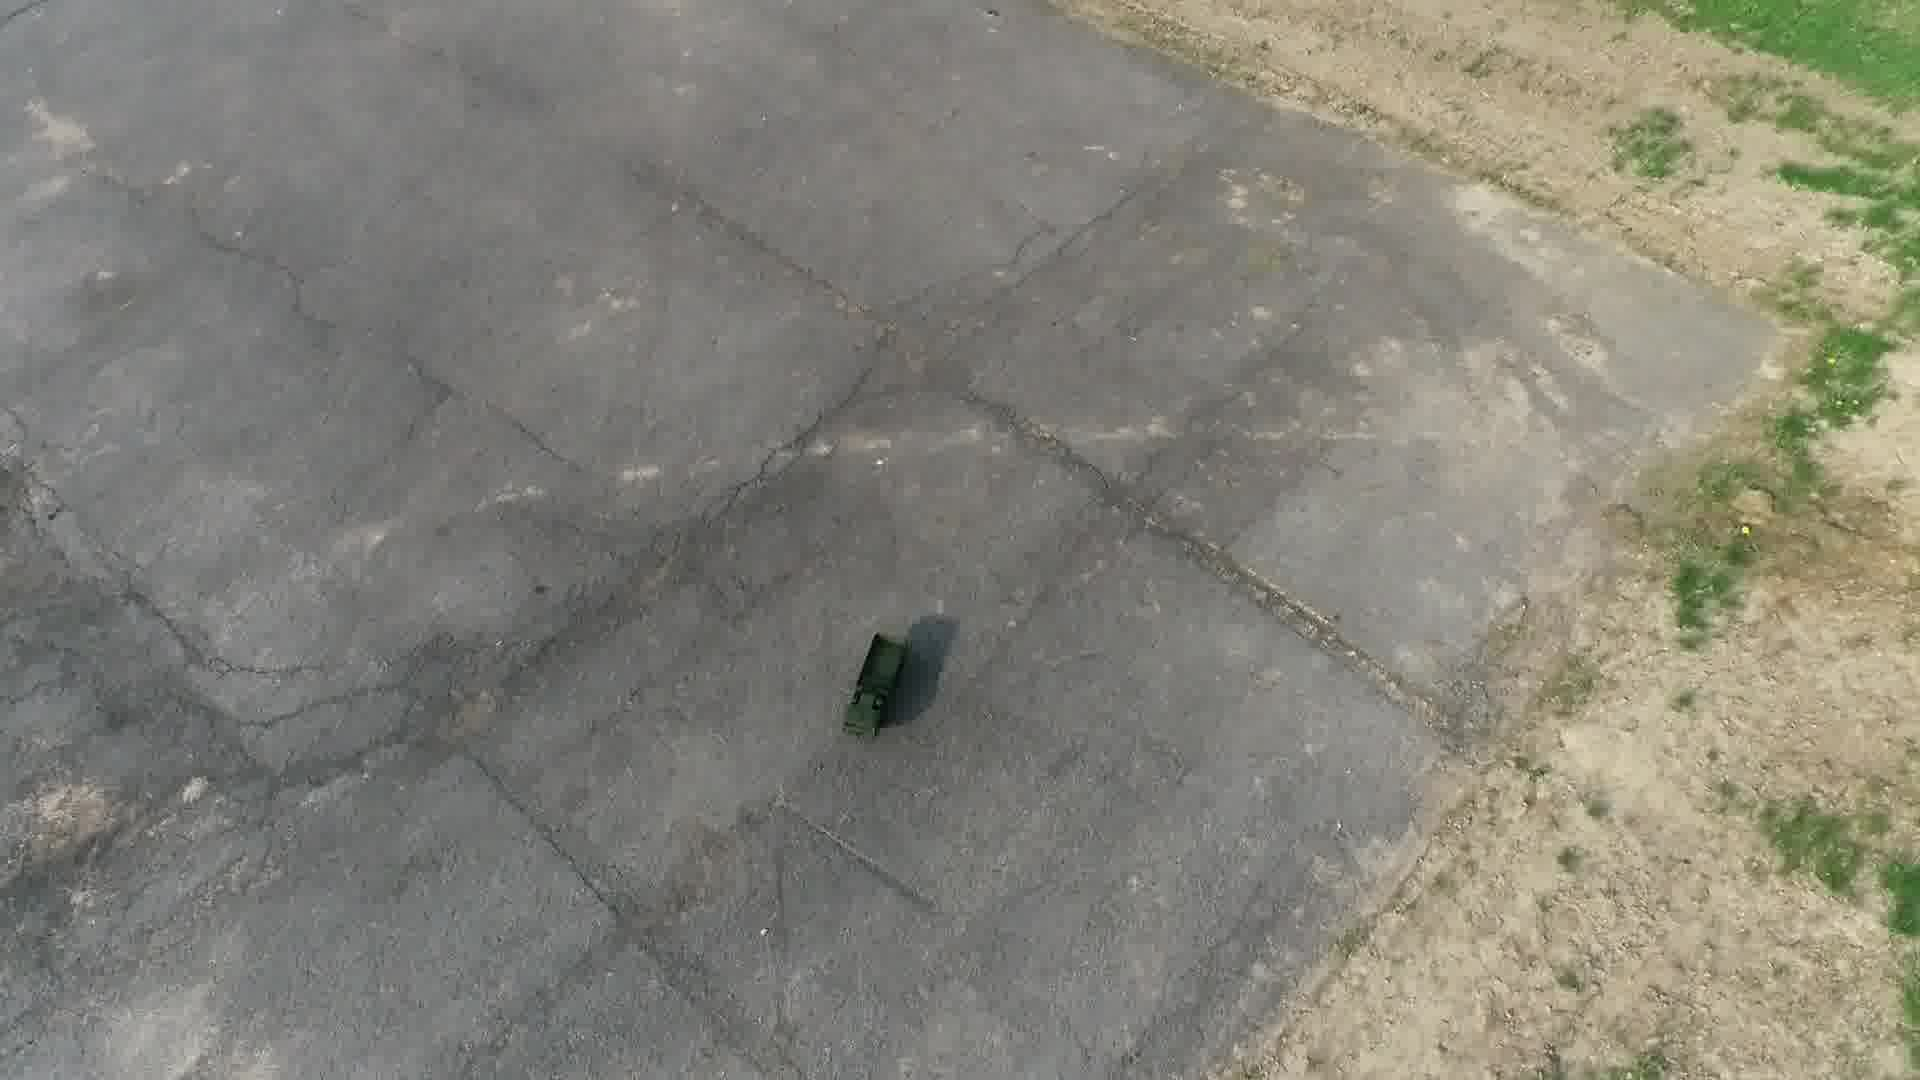transporter9: (833, 632, 916, 742)
